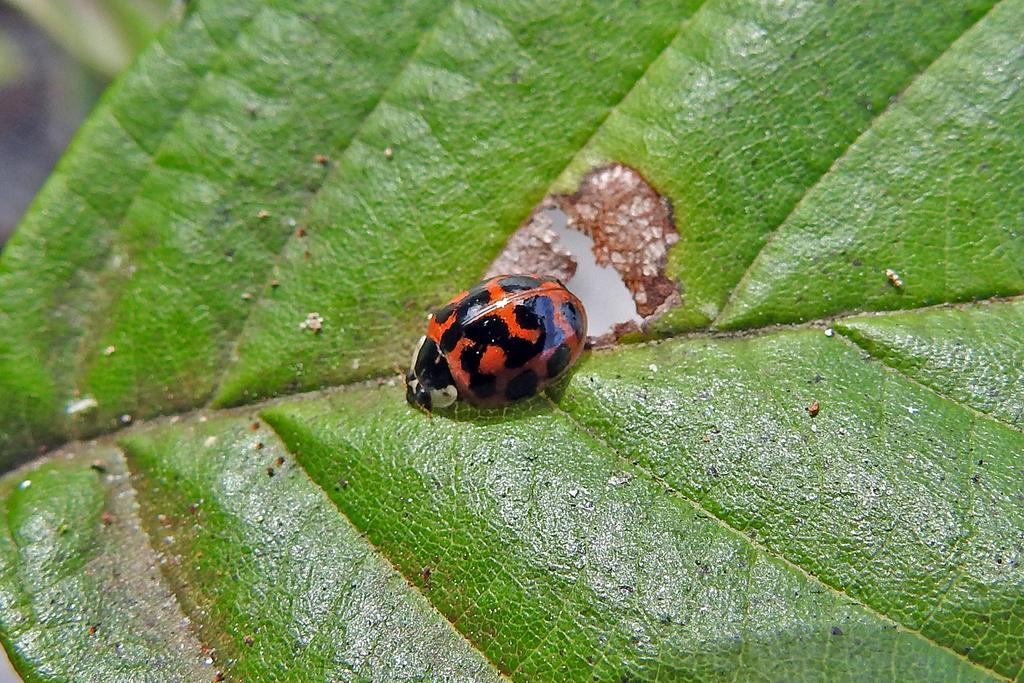ladybug: (405, 271, 593, 421)
